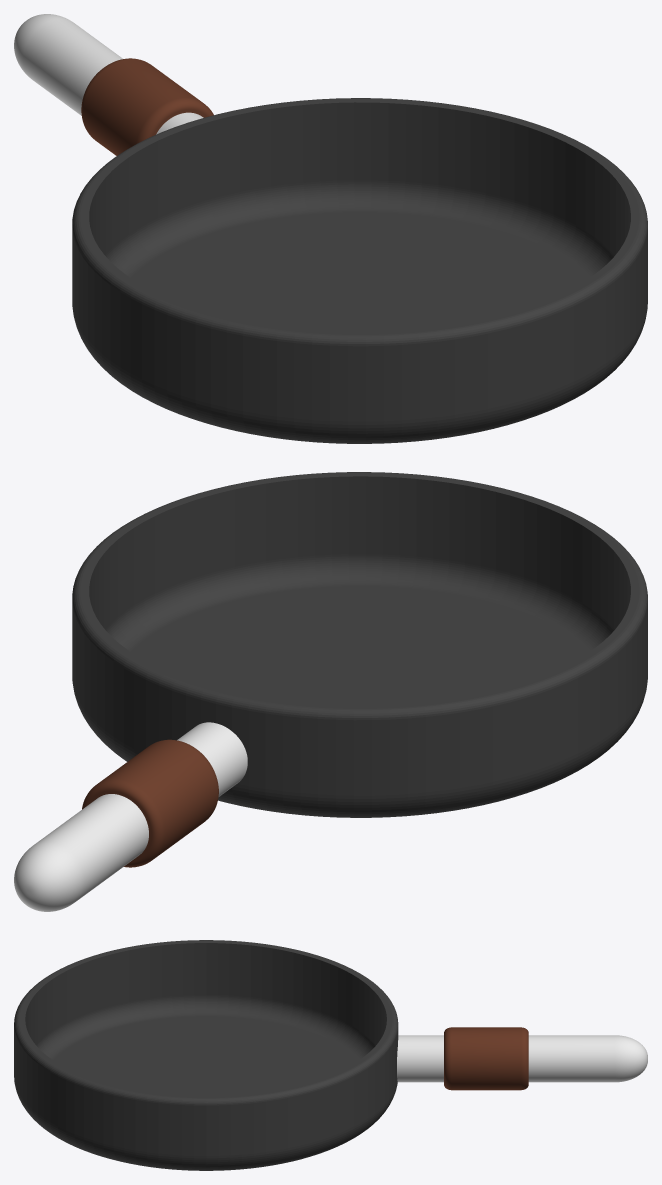
File: Pan.fbx
3 renders of one model, top to bottom at view 1: azimuth 30°, elevation 25°; view 2: azimuth 150°, elevation 25°; view 3: azimuth 270°, elevation 25°, orthographic. The views are drawn at different scales.
Parts seen in each view (by area): view 1: Cylinder, Cylinder.002, Cylinder.001; view 2: Cylinder, Cylinder.001, Cylinder.002; view 3: Cylinder, Cylinder.001, Cylinder.002.
Boxes of the visible parts, box(x1,y1,x2,y2) form: Cylinder: box(72, 98, 647, 443); Cylinder.002: box(81, 58, 213, 155); Cylinder.001: box(14, 14, 203, 134); Cylinder: box(72, 472, 647, 817); Cylinder.001: box(14, 722, 247, 911); Cylinder.002: box(82, 739, 218, 867); Cylinder: box(14, 940, 398, 1170); Cylinder.001: box(397, 1035, 647, 1082); Cylinder.002: box(444, 1027, 528, 1090).
Bounding box in the file's own units: 200 × 45.23 × 330.
